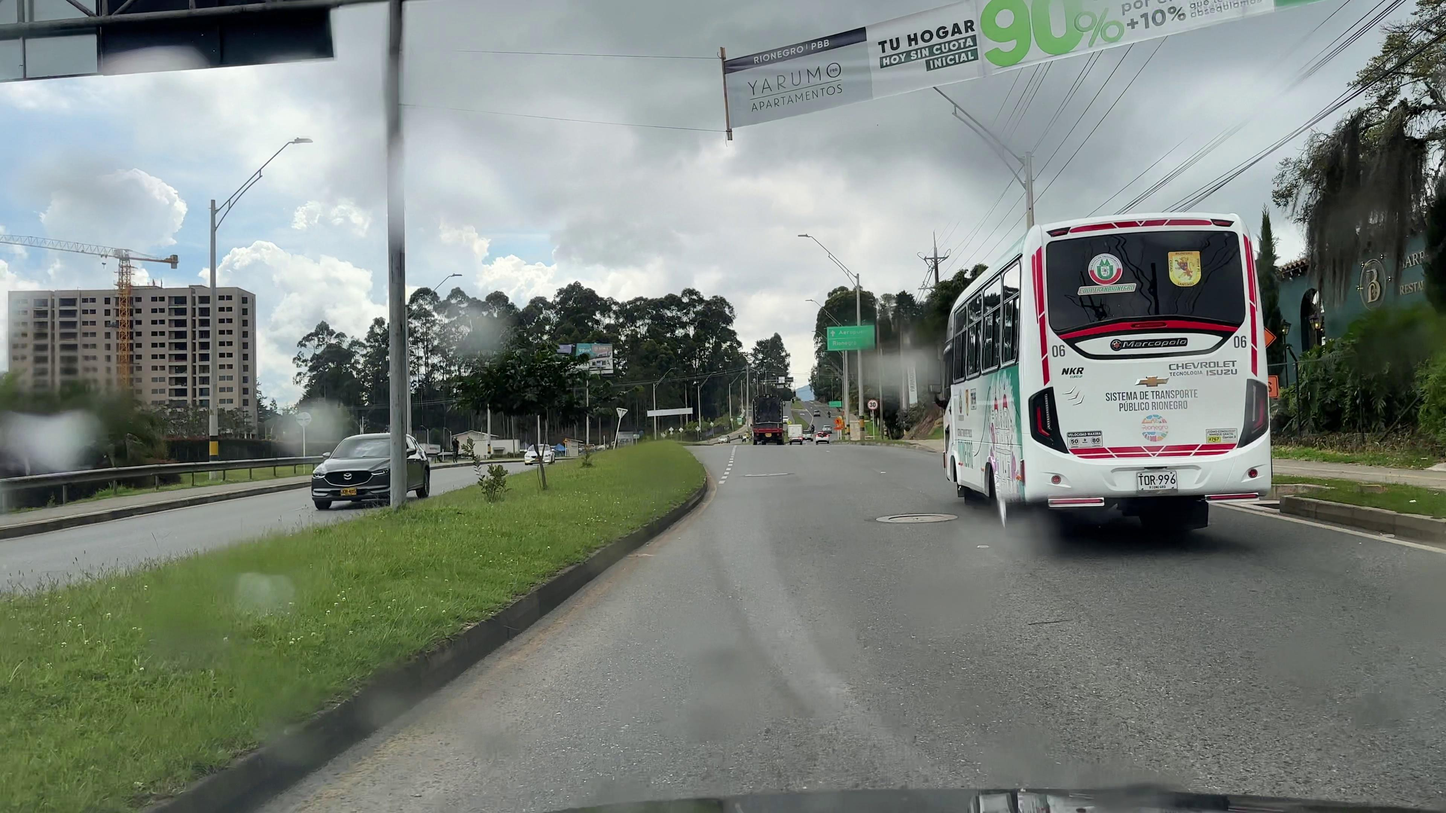registro: (888, 515, 944, 521)
rejilla: (1248, 503, 1280, 509)
